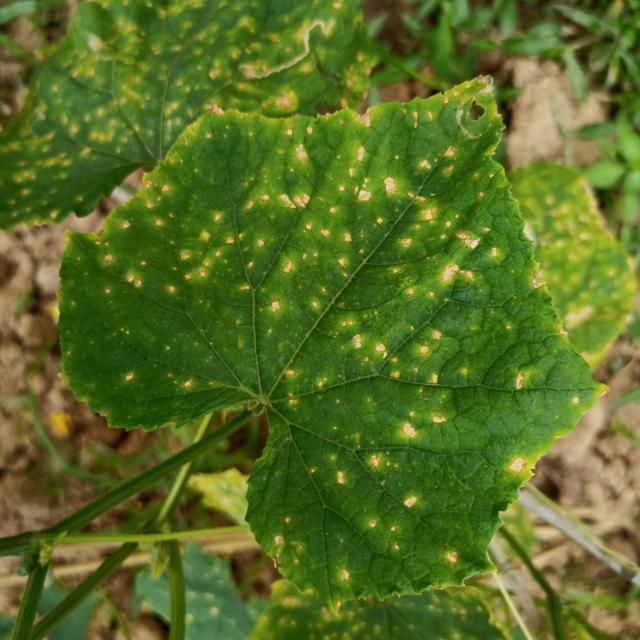disease_cucumber: (68, 110, 584, 406), (272, 405, 472, 588), (502, 446, 532, 480)
